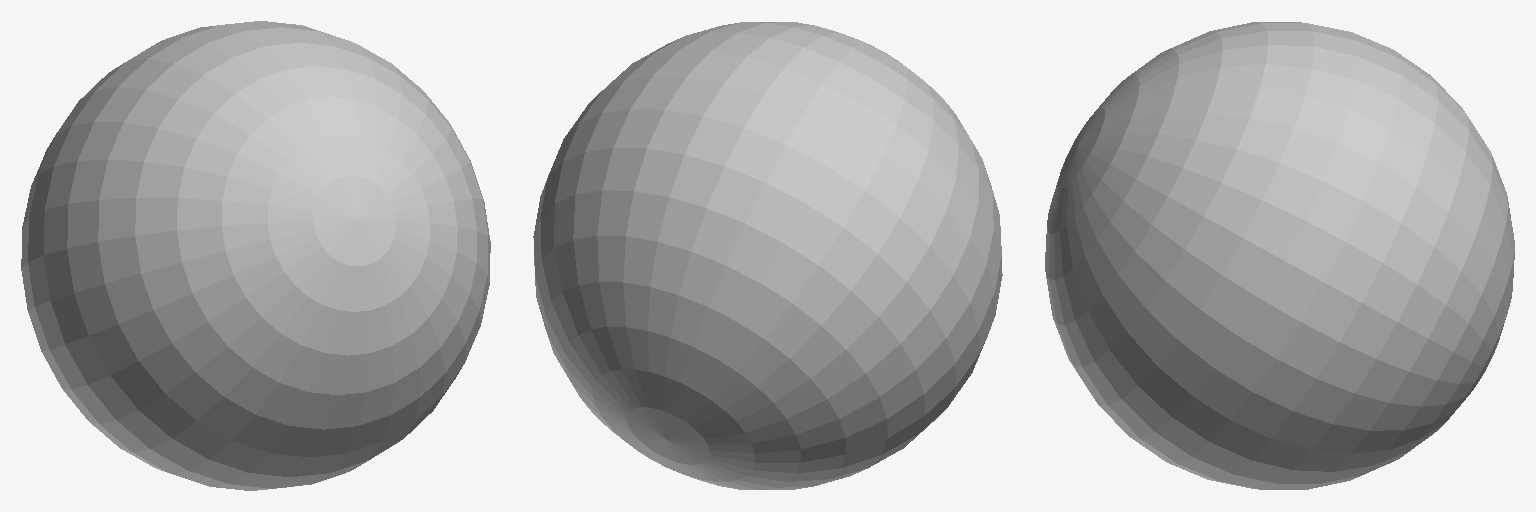
File: ball.obj
3 views of the same model, side by side, from view 1: azimuth 30°, elevation 25°; view 2: azimuth 150°, elevation 25°; view 3: azimuth 270°, elevation 25° (orthographic).
Parts seen in each view (by area): view 1: Brazuca_Sphere; view 2: Brazuca_Sphere; view 3: Brazuca_Sphere.
Part boxes in pixels (left/top/right/bottom): Brazuca_Sphere: left=21, top=21, right=490, bottom=490; Brazuca_Sphere: left=533, top=22, right=1002, bottom=489; Brazuca_Sphere: left=1045, top=22, right=1514, bottom=489.
Bounding box in the file's own units: 2 × 2 × 2.